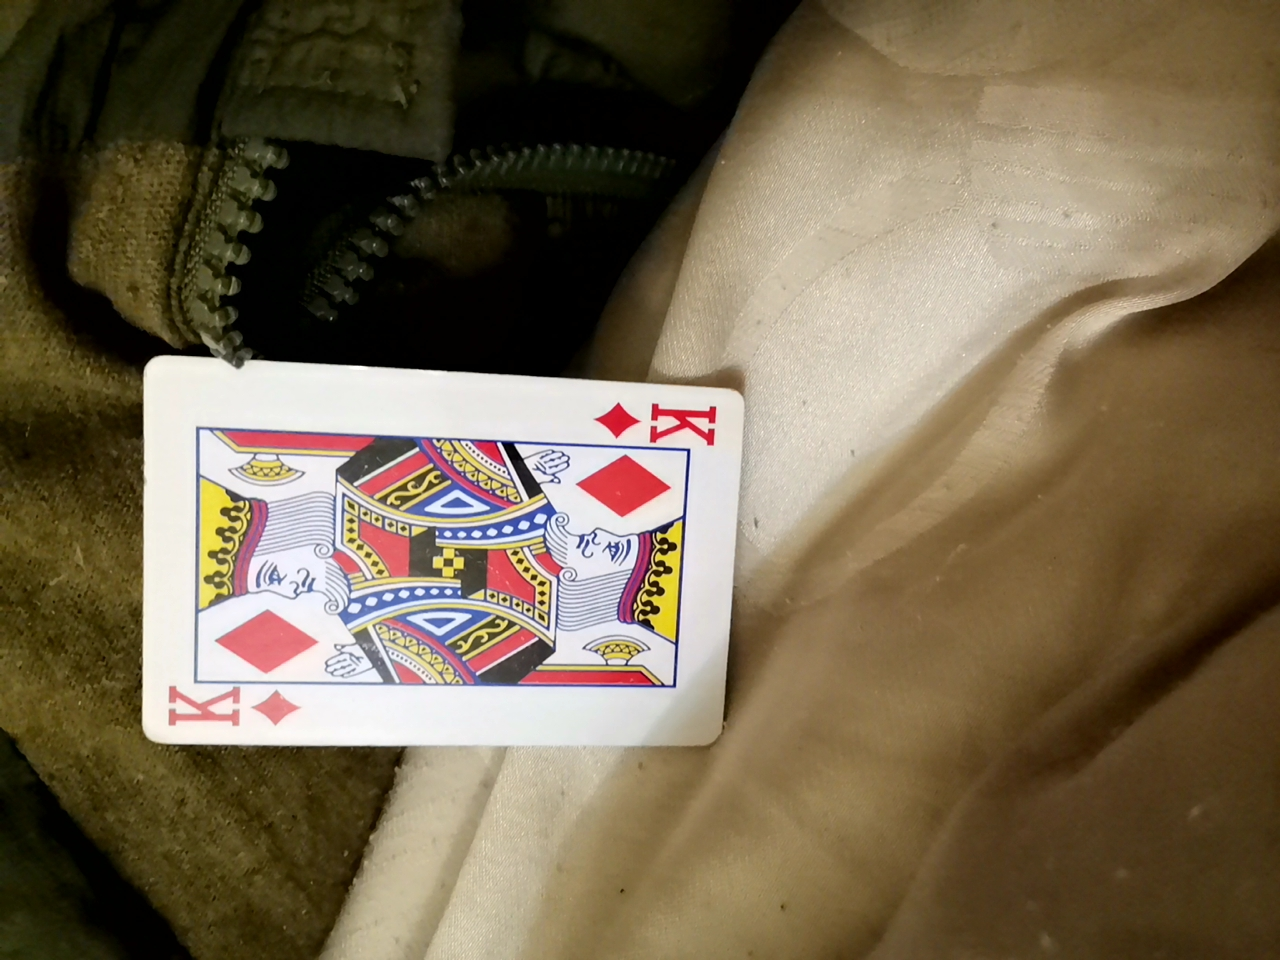fk k: (127, 357, 719, 764)
